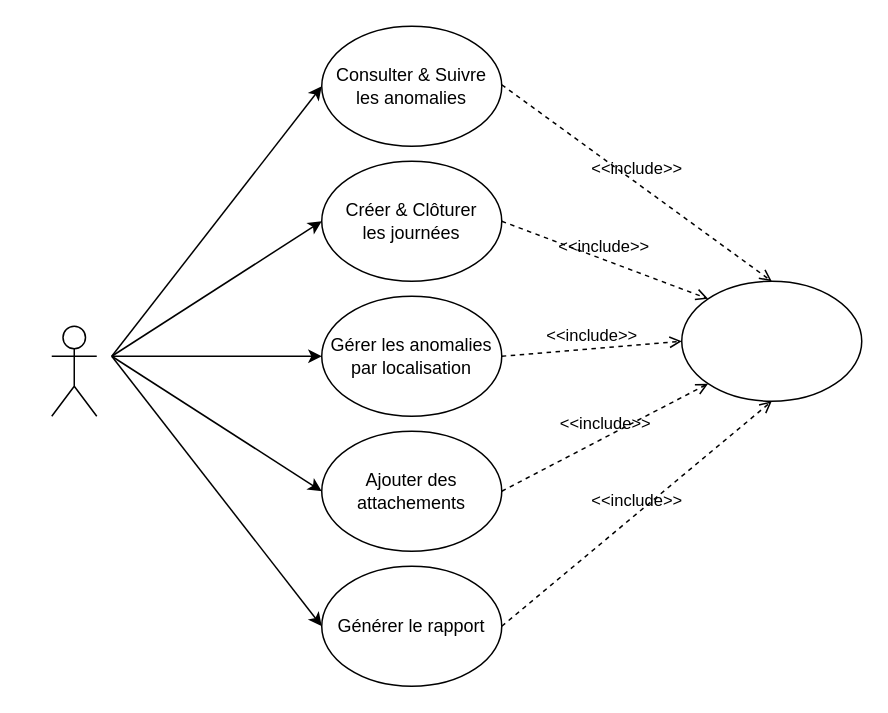
Some shapes in this 888 by 713 pixel diagram are drawn without their labels. Each missing label, with the centre of its shape:
Prospecteur: (x=73, y=370)
S'authentifier: (x=771, y=340)
